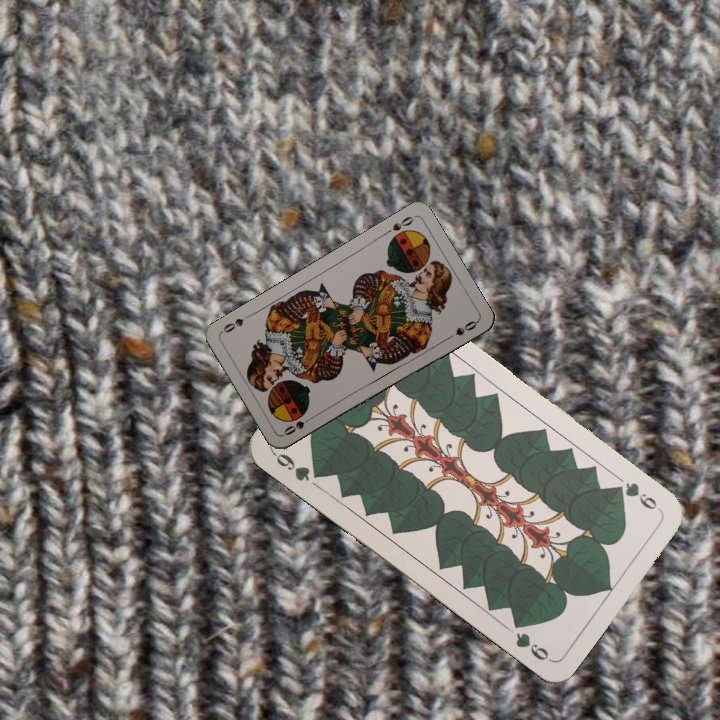G9: (269, 448, 326, 484), (610, 478, 660, 513)
SO: (279, 412, 317, 438), (380, 212, 416, 238)
